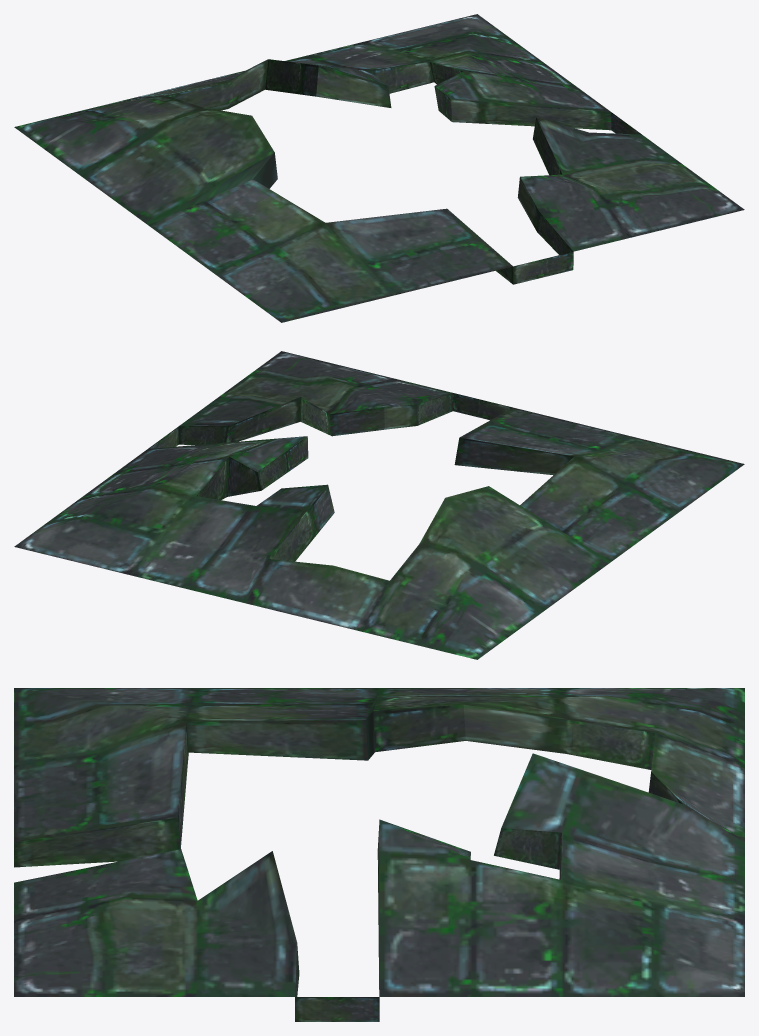
File: stemple_floor_buckled_01.fbx
The picture shows the model from 3 angles, top to bottom: view 1: azimuth 30°, elevation 25°; view 2: azimuth 150°, elevation 25°; view 3: azimuth 270°, elevation 25°; orthographic projection. The views are drawn at different scales.
Parts seen in each view (by area): view 1: stemple_floor_buckled_01-0; view 2: stemple_floor_buckled_01-0; view 3: stemple_floor_buckled_01-0.
Part boxes in pixels (box(x1,y1,x2,y2)): stemple_floor_buckled_01-0: box(14, 14, 744, 322); stemple_floor_buckled_01-0: box(14, 351, 744, 659); stemple_floor_buckled_01-0: box(14, 688, 744, 1021).
Size of the model in its own units: 4 by 0.6709 by 4.
